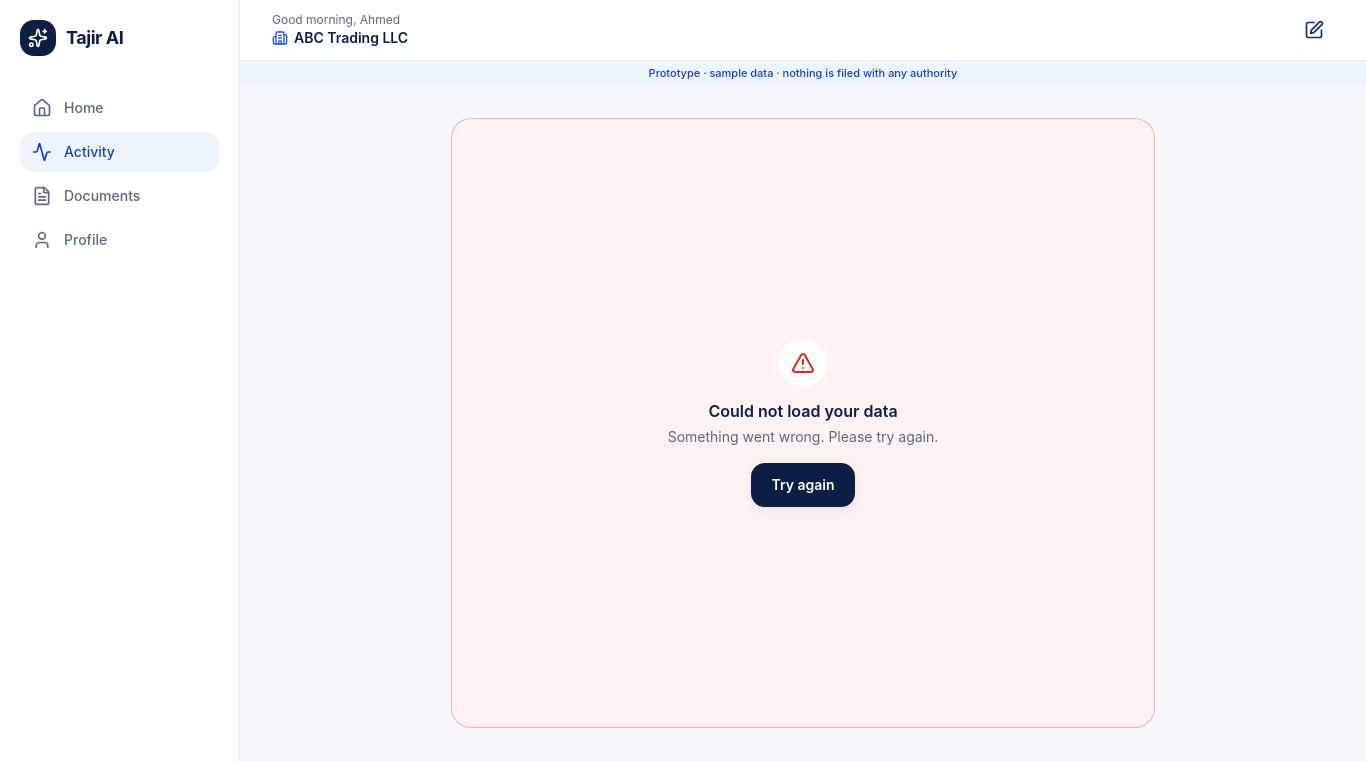
Test case: loading and errors › explains a failed first load and loads again on retry
Expected: the message shows "Could not load your data", [708,401,898,421]
Expected: the message shows "Something went wrong. Please try again.", [668,428,938,445]
Click the button "Try again": (803, 485) [752,463,855,507]
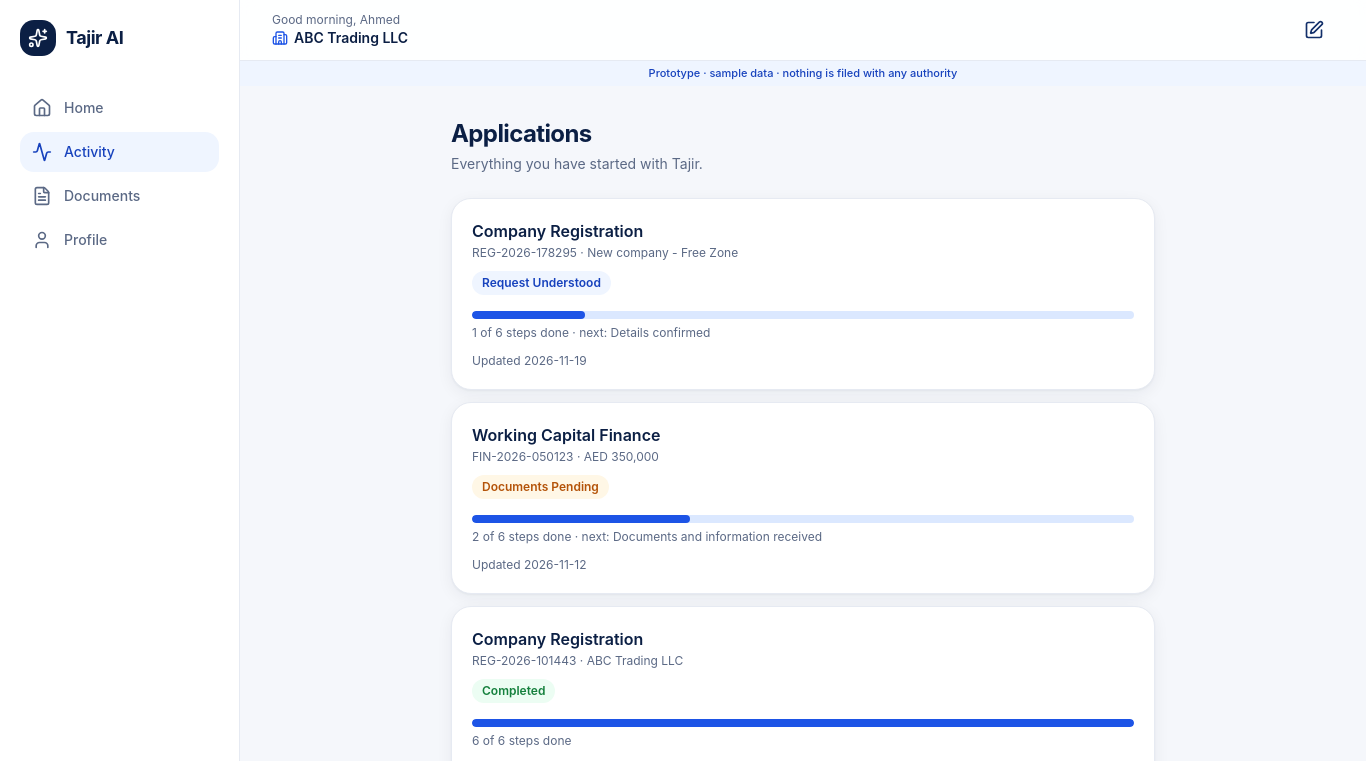
Result: the heading "Applications" is shown at [451,118,592,148]
Result: the message "Could not load your data Something went wrong. Please try again. Try again" is gone
